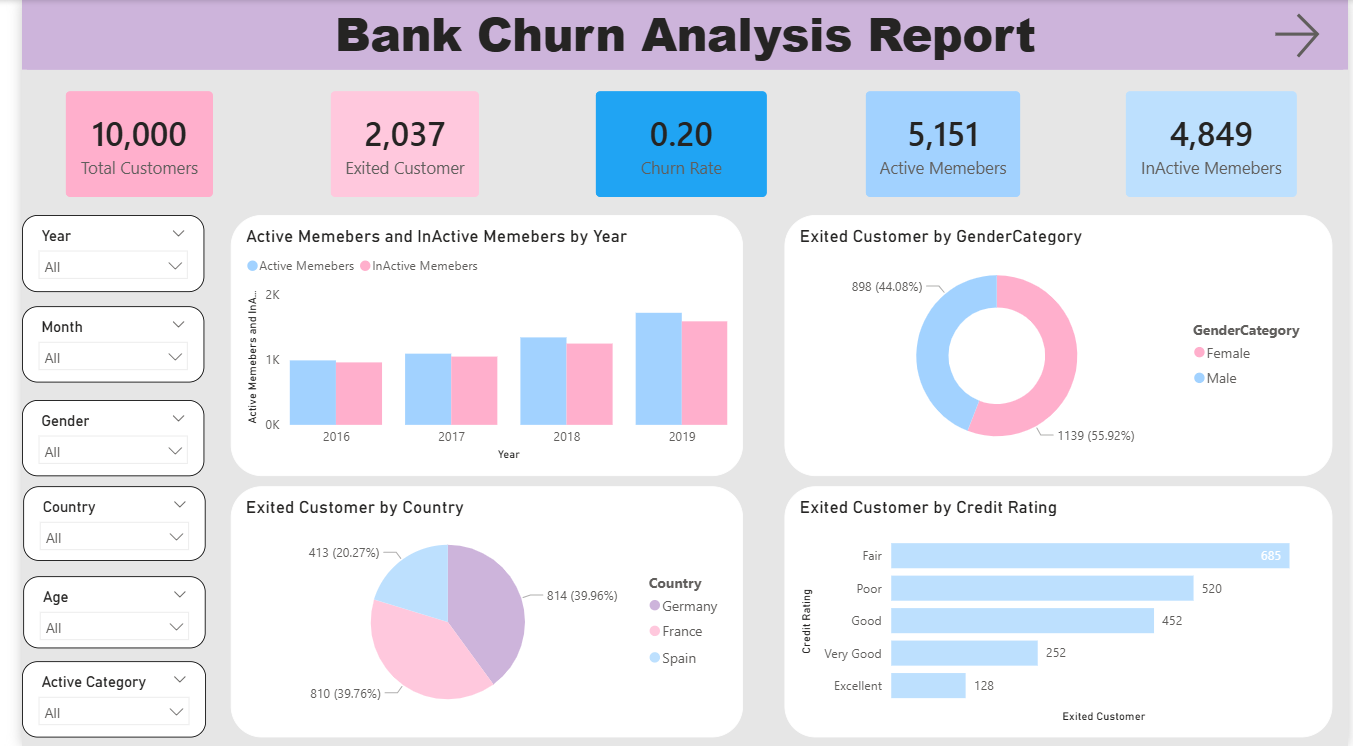

The dashboard page shown, as its layout file describes it:
{"tool":"powerbi","page":{"name":"Executive Summary","canvas":[1280,720],"ordinal":0},"visuals":[{"type":"textbox","title":"Bank Churn Analysis Report","box":[0,0,1280.3,70.9],"z":0},{"type":"cardVisual","fields":{"Data":["Bank_Churn.Total Customers"]},"box":[25.3,71.2,176.1,136.3],"z":1000},{"type":"cardVisual","fields":{"Data":["Bank_Churn.Exited Customer"]},"box":[281.1,71.2,177.3,136.3],"z":2000},{"type":"cardVisual","fields":{"Data":["Bank_Churn.Active Memebers"]},"box":[797.5,71.2,183.4,136.3],"z":3000},{"type":"cardVisual","fields":{"Data":["Bank_Churn.InActive Memebers"]},"box":[1048.4,71.2,199.1,136.3],"z":4000},{"type":"slicer","fields":{"Values":["Bank_Churn.Bank DOJ.Variation.Date Hierarchy.Year"]},"box":[0,207.5,176.1,74.8],"z":5000},{"type":"slicer","fields":{"Values":["Bank_Churn.Bank DOJ.Variation.Date Hierarchy.Month"]},"box":[0,295.6,176.1,73.6],"z":6000},{"type":"slicer","fields":{"Values":["Gender.GenderCategory"]},"box":[0,386.1,176.1,73.6],"z":7000},{"type":"slicer","fields":{"Values":["Geography.GeographyLocation"]},"box":[1.2,469.3,176.1,72.4],"z":8000},{"type":"slicer","fields":{"Values":["Bank_Churn.Age"]},"box":[1.2,556.2,176.1,70],"z":9000},{"type":"slicer","fields":{"Values":["ActiveCustomer.ActiveCategory"]},"box":[0,638.2,177.3,73.6],"z":10000},{"type":"clusteredColumnChart","fields":{"Category":["Bank_Churn.Bank DOJ.Variation.Date Hierarchy.Year"],"Y":["Bank_Churn.Active Memebers","Bank_Churn.InActive Memebers"]},"box":[201.5,207.5,494.6,252.1],"z":11000},{"type":"donutChart","fields":{"Category":["Gender.GenderCategory"],"Y":["Bank_Churn.Exited Customer"]},"box":[735.9,207.5,528.4,252.1],"z":12000},{"type":"pieChart","fields":{"Y":["Bank_Churn.Exited Customer"],"Category":["Geography.GeographyLocation"]},"box":[201.5,469.3,494.6,242.5],"z":13000},{"type":"clusteredBarChart","fields":{"Y":["Bank_Churn.Exited Customer"],"Category":["Bank_Churn.Credit Rating"]},"box":[735.9,469.3,528.4,242.5],"z":14000},{"type":"cardVisual","fields":{"Data":["Bank_Churn.Churn Rate"]},"box":[536.9,71.2,199.1,136.3],"z":15000},{"type":"actionButton","box":[1202.8,7.2,61.5,54.3],"z":16000}]}

Visuals, with their boxes in screenshot pixels (x1, y1, x2, y2), scaled from the page's 1280x720 canvas onto the 1353x746 screenshot:
"Bank Churn Analysis Report" textbox: x1=0, y1=0, x2=1352, y2=73
cardVisual - Bank_Churn.Total Customers: x1=27, y1=74, x2=213, y2=215
cardVisual - Bank_Churn.Exited Customer: x1=297, y1=74, x2=485, y2=215
cardVisual - Bank_Churn.Active Memebers: x1=843, y1=74, x2=1037, y2=215
cardVisual - Bank_Churn.InActive Memebers: x1=1108, y1=74, x2=1319, y2=215
slicer - Bank_Churn.Bank DOJ.Variation.Date Hierarchy.Year: x1=0, y1=215, x2=186, y2=292
slicer - Bank_Churn.Bank DOJ.Variation.Date Hierarchy.Month: x1=0, y1=306, x2=186, y2=383
slicer - Gender.GenderCategory: x1=0, y1=400, x2=186, y2=476
slicer - Geography.GeographyLocation: x1=1, y1=486, x2=187, y2=561
slicer - Bank_Churn.Age: x1=1, y1=576, x2=187, y2=649
slicer - ActiveCustomer.ActiveCategory: x1=0, y1=661, x2=187, y2=738
clusteredColumnChart - Bank_Churn.Bank DOJ.Variation.Date Hierarchy.Year x Bank_Churn.Active Memebers: x1=213, y1=215, x2=736, y2=476
donutChart - Gender.GenderCategory x Bank_Churn.Exited Customer: x1=778, y1=215, x2=1336, y2=476
pieChart - Bank_Churn.Exited Customer x Geography.GeographyLocation: x1=213, y1=486, x2=736, y2=738
clusteredBarChart - Bank_Churn.Exited Customer x Bank_Churn.Credit Rating: x1=778, y1=486, x2=1336, y2=738
cardVisual - Bank_Churn.Churn Rate: x1=568, y1=74, x2=778, y2=215
actionButton: x1=1271, y1=7, x2=1336, y2=64
